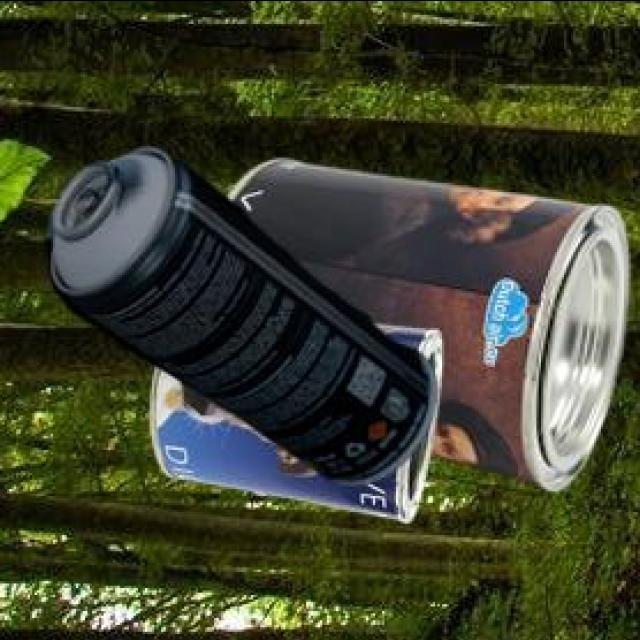logam: (224, 162, 625, 494), (43, 151, 434, 487), (146, 329, 439, 526)
